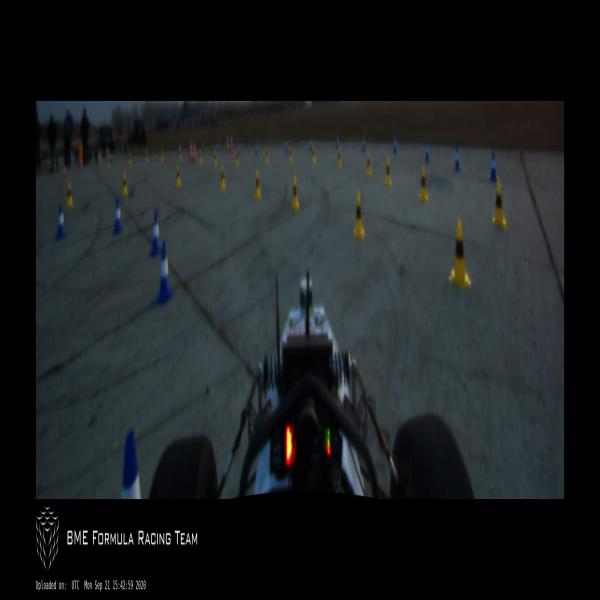blue_cone: (120, 429, 142, 499), (154, 242, 174, 303), (150, 211, 163, 257), (54, 205, 66, 241), (113, 198, 123, 235), (490, 150, 498, 181), (454, 146, 461, 171), (425, 141, 430, 163), (393, 135, 397, 154), (362, 135, 365, 153), (336, 136, 339, 150), (285, 140, 288, 154), (255, 145, 258, 156), (310, 137, 312, 151), (202, 142, 204, 151), (238, 143, 240, 151), (218, 142, 220, 150)
large_orange_cone: (192, 140, 197, 163), (188, 140, 193, 163), (229, 134, 233, 154), (226, 135, 229, 153)
orange_cone: (62, 164, 66, 179)
yellow_cone: (450, 219, 470, 289), (492, 179, 506, 228), (354, 192, 364, 238), (419, 165, 428, 201), (292, 177, 300, 210), (385, 157, 392, 186), (65, 182, 73, 206), (121, 172, 128, 198), (255, 172, 261, 199), (366, 152, 371, 178), (220, 166, 225, 189), (337, 148, 342, 168), (176, 165, 180, 187), (288, 144, 292, 164), (178, 145, 183, 161), (235, 150, 239, 167), (213, 150, 217, 167), (160, 149, 164, 164), (312, 146, 315, 164), (265, 147, 268, 165), (128, 152, 132, 165), (107, 156, 111, 169), (199, 148, 202, 164), (145, 150, 148, 164), (53, 159, 56, 170)
